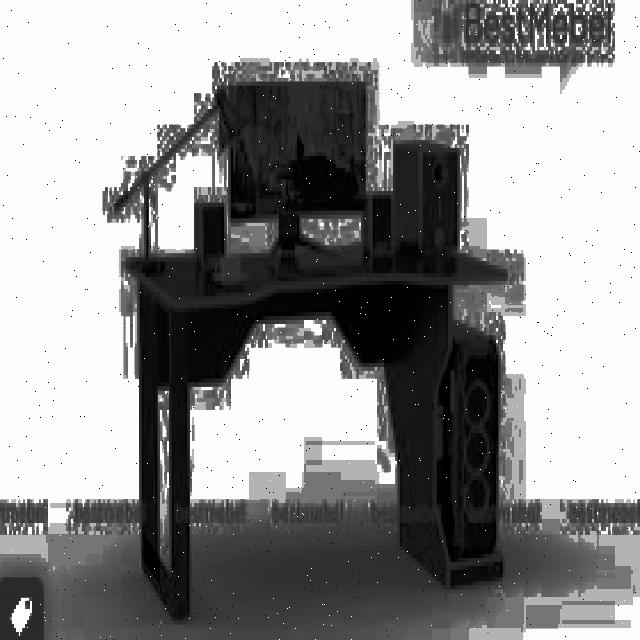table: (126, 242, 507, 620)
